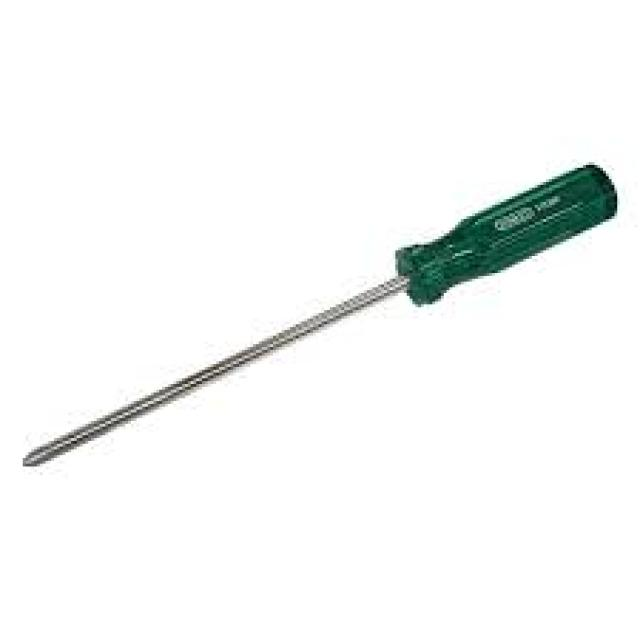screw driver: (5, 135, 640, 531)
